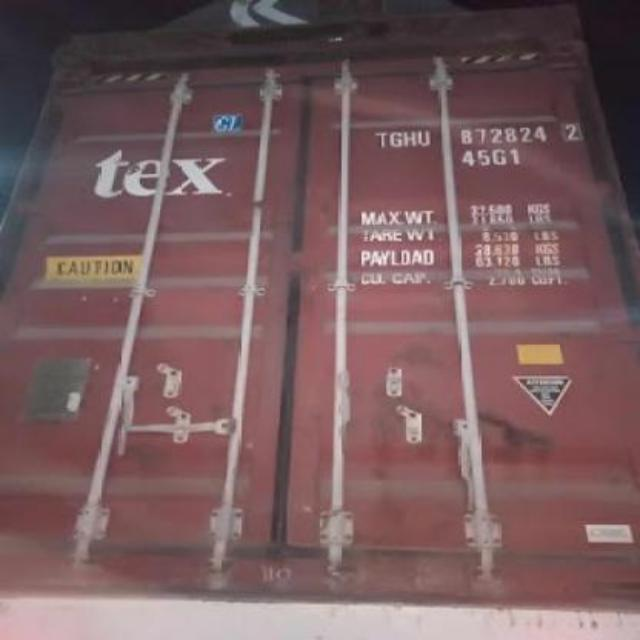2: (562, 115, 582, 141), (486, 118, 504, 146), (516, 117, 532, 143)
4: (530, 116, 550, 144)
7: (472, 120, 488, 146)
8: (502, 119, 518, 145), (458, 122, 472, 146)
G: (386, 122, 402, 148)
H: (402, 120, 416, 150)
T: (372, 124, 388, 148)
U: (414, 120, 430, 148)
